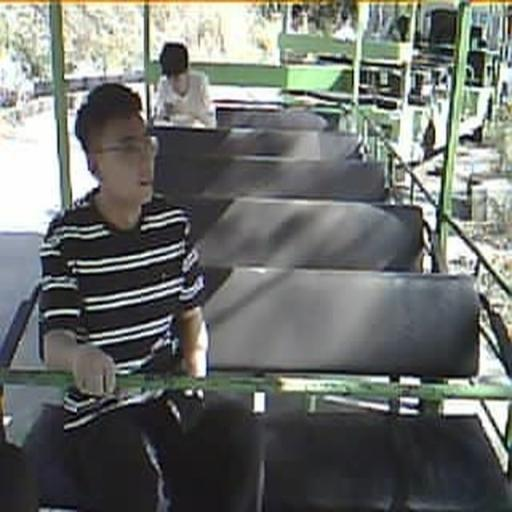persona: (28, 80, 211, 510), (151, 40, 216, 127)
